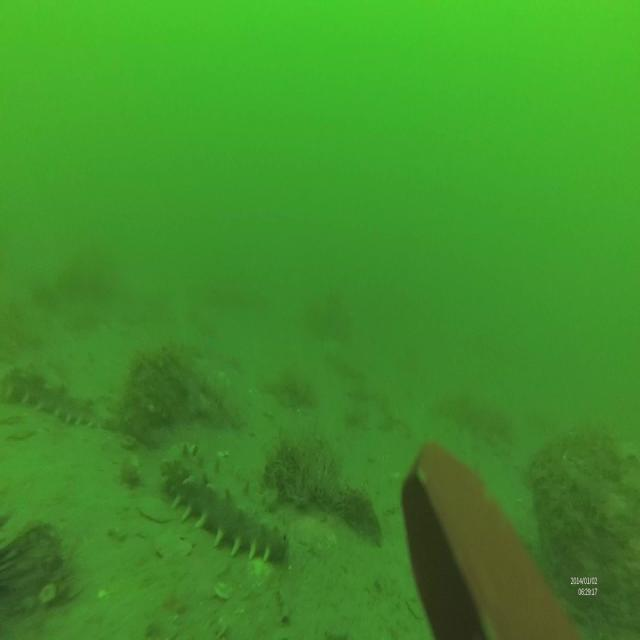holothurian: (162, 439, 290, 566), (0, 360, 112, 434)
